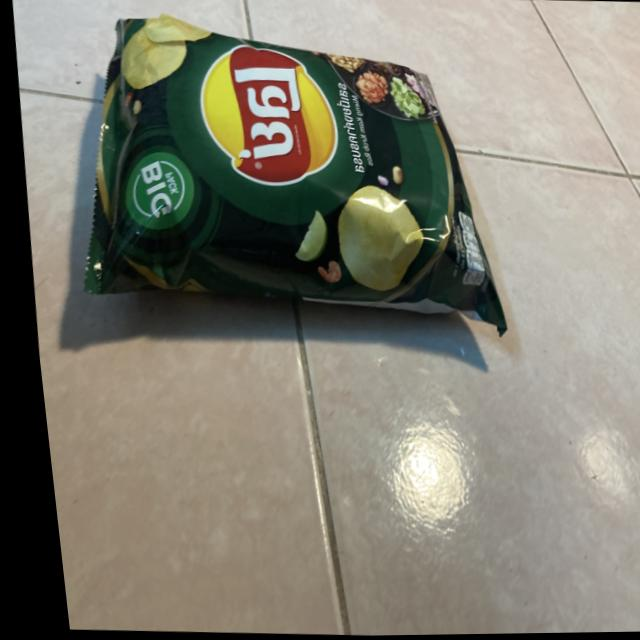Laygreen: (47, 0, 523, 363)
